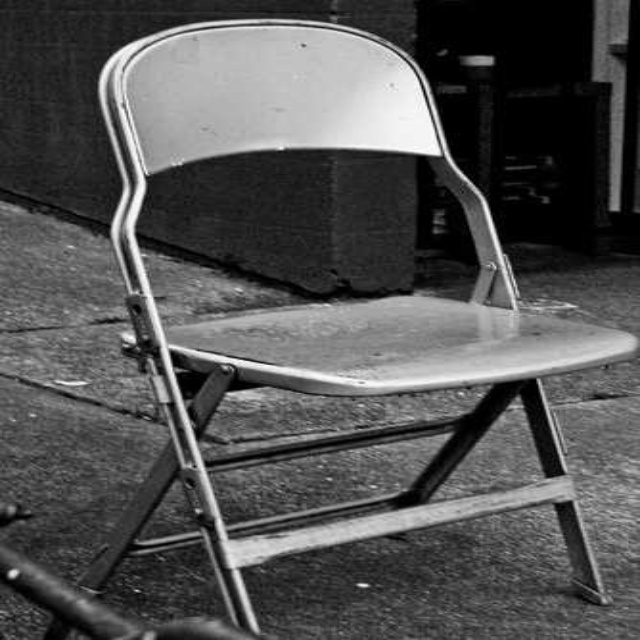obstacle: (84, 19, 634, 632)
